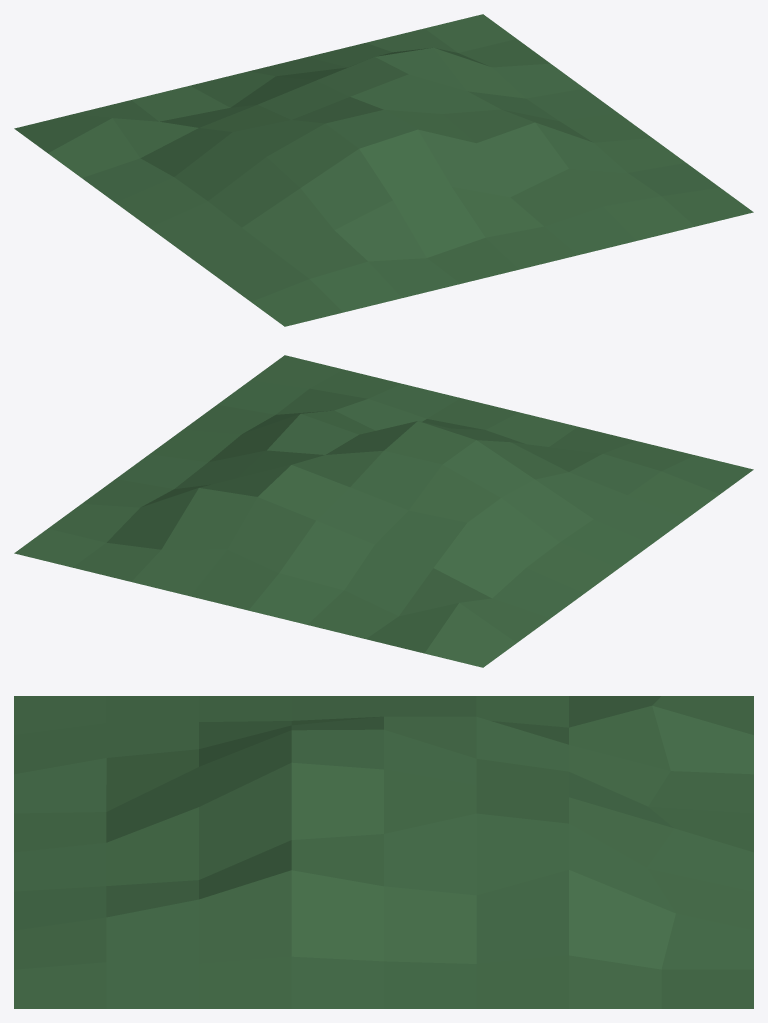
File: Terrain_7_Light_Green.fbx
3 renders of one model, top to bottom at view 1: azimuth 30°, elevation 25°; view 2: azimuth 150°, elevation 25°; view 3: azimuth 270°, elevation 25°, orthographic. The views are drawn at different scales.
Visible parts, largest first — view 1: Terrain_7_Light_Green; view 2: Terrain_7_Light_Green; view 3: Terrain_7_Light_Green.
Boxes of the visible parts, left/top/right/bottom form: Terrain_7_Light_Green: left=14, top=14, right=753, bottom=326; Terrain_7_Light_Green: left=14, top=355, right=753, bottom=667; Terrain_7_Light_Green: left=14, top=696, right=753, bottom=1008.
Bounding box in the file's own units: 4000 × 535 × 4000.
